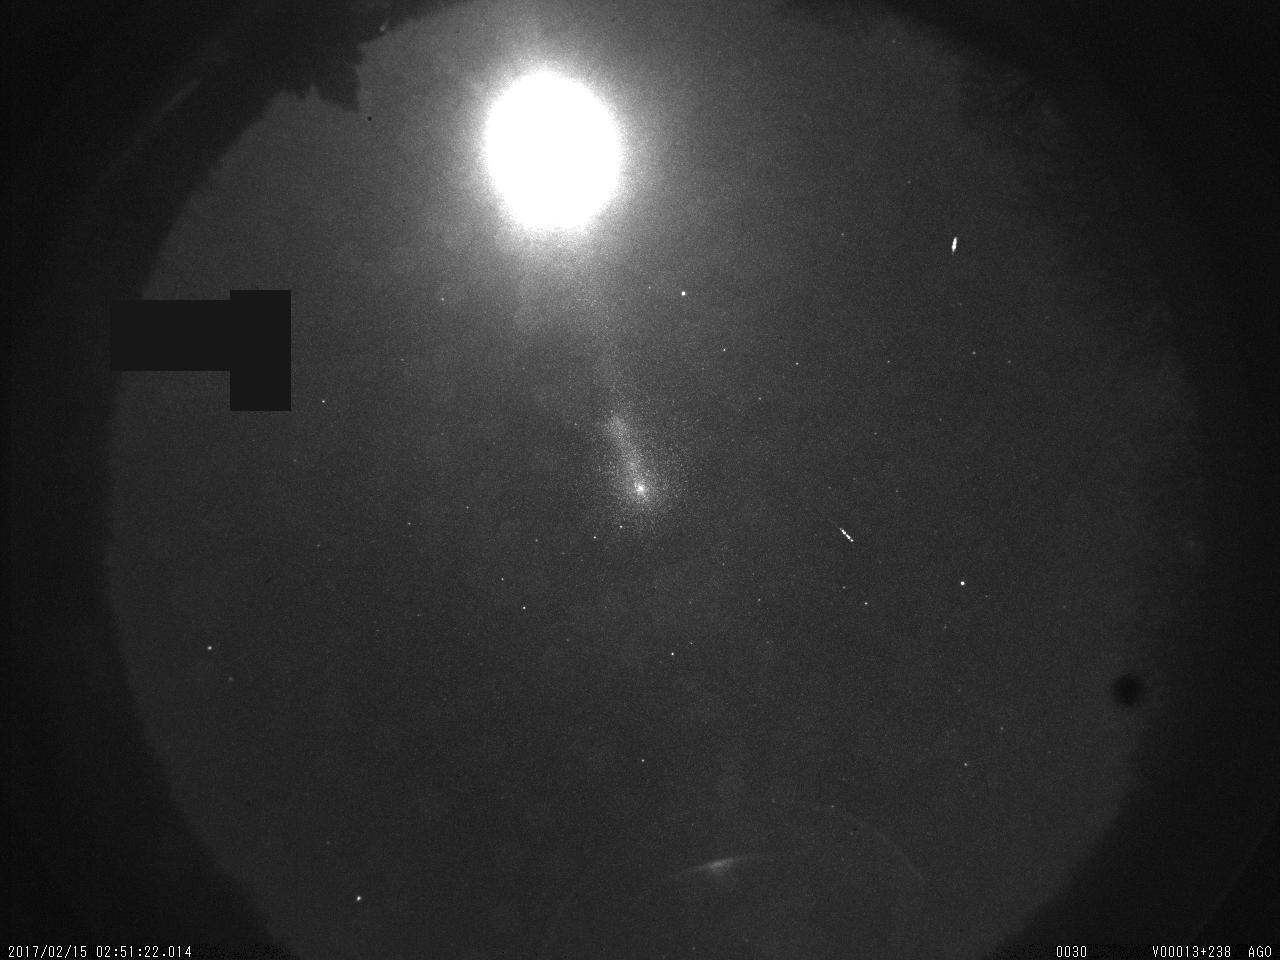meteor: (944, 232, 967, 263)
satelite: (836, 519, 860, 549)
